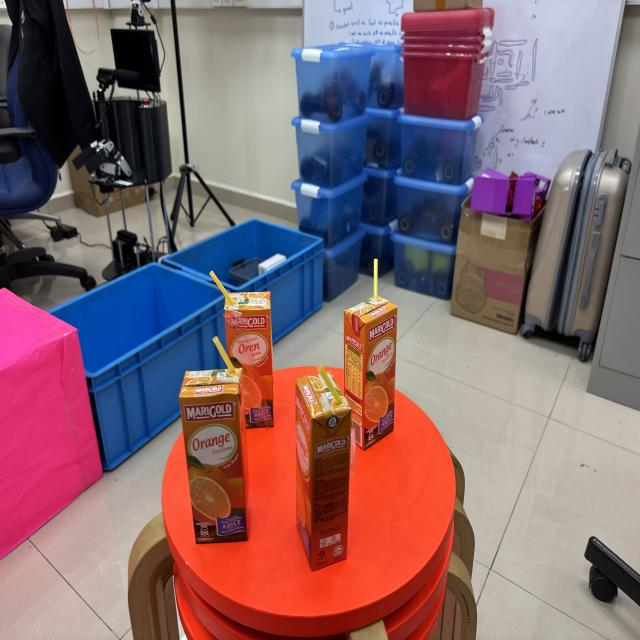drink_carton: (174, 338, 255, 554), (290, 358, 354, 579), (206, 256, 282, 439), (342, 251, 402, 453)
